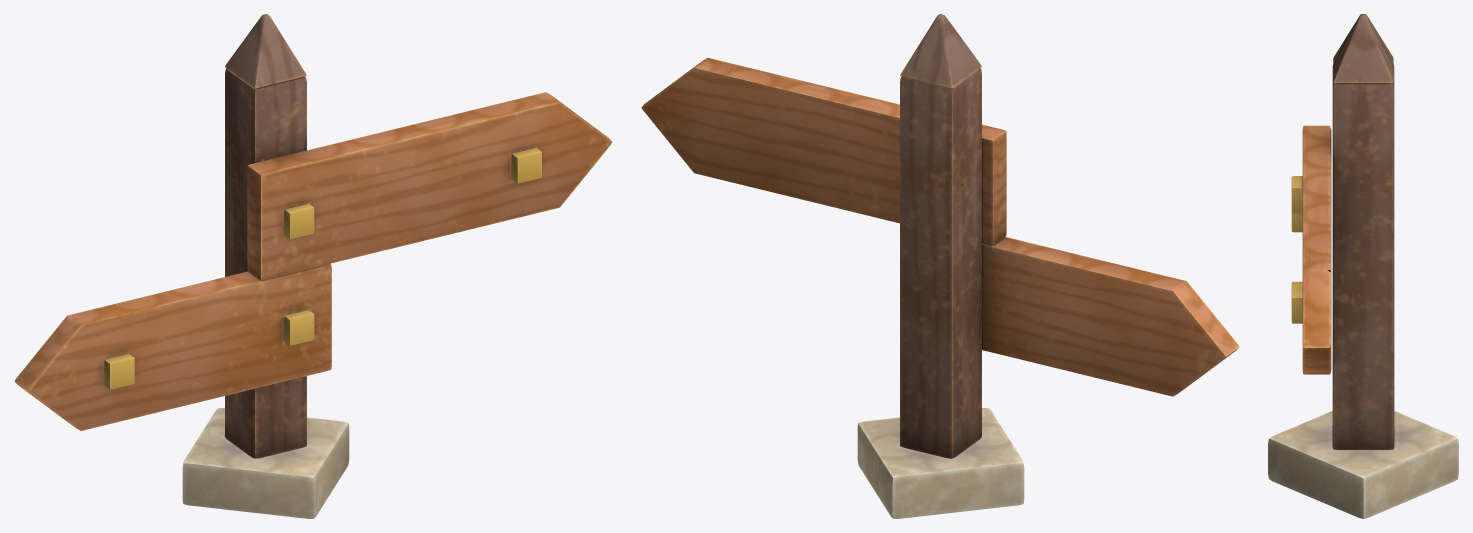
Rendered from Pancarte.fbx.
The picture shows the model from 3 angles, left to right: view 1: azimuth 30°, elevation 25°; view 2: azimuth 150°, elevation 25°; view 3: azimuth 270°, elevation 25°; orthographic projection.
Visible parts, largest first — view 1: Pancarte; view 2: Pancarte; view 3: Pancarte.
Boxes of the visible parts, box(x1,y1,x2,y2) form: Pancarte: box(14, 14, 612, 518); Pancarte: box(641, 14, 1239, 518); Pancarte: box(1268, 14, 1458, 518).
Bounding box in the file's own units: 977 × 750 × 278.
Materials: 1 (1 with a texture image).
